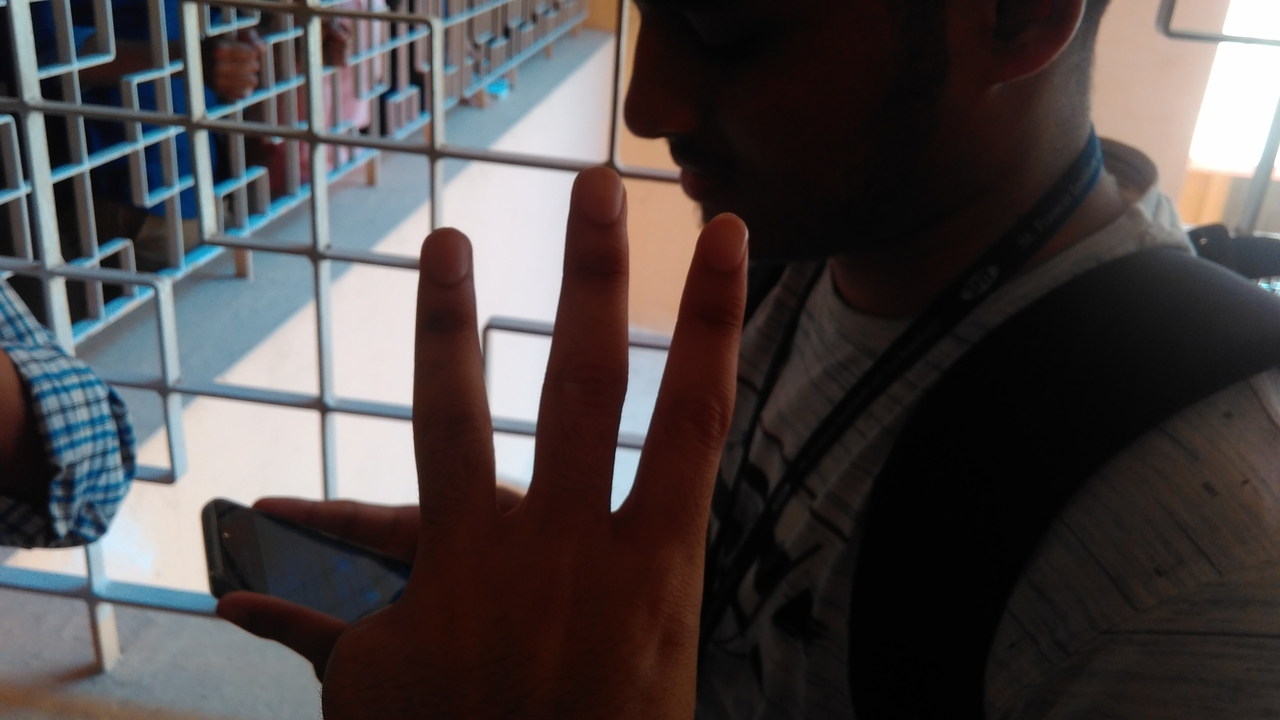fingertip: (410, 218, 476, 286), (688, 204, 754, 272), (562, 152, 630, 216)
